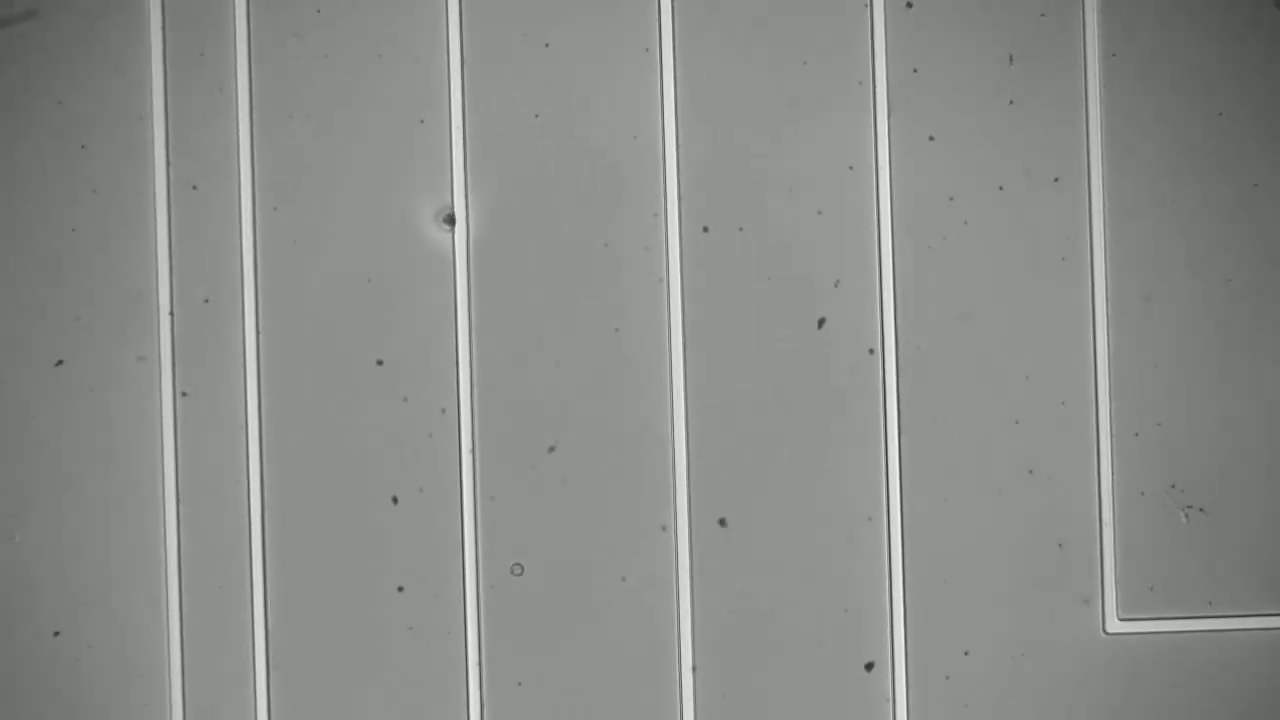stains_enbedded: (432, 205, 472, 233)
